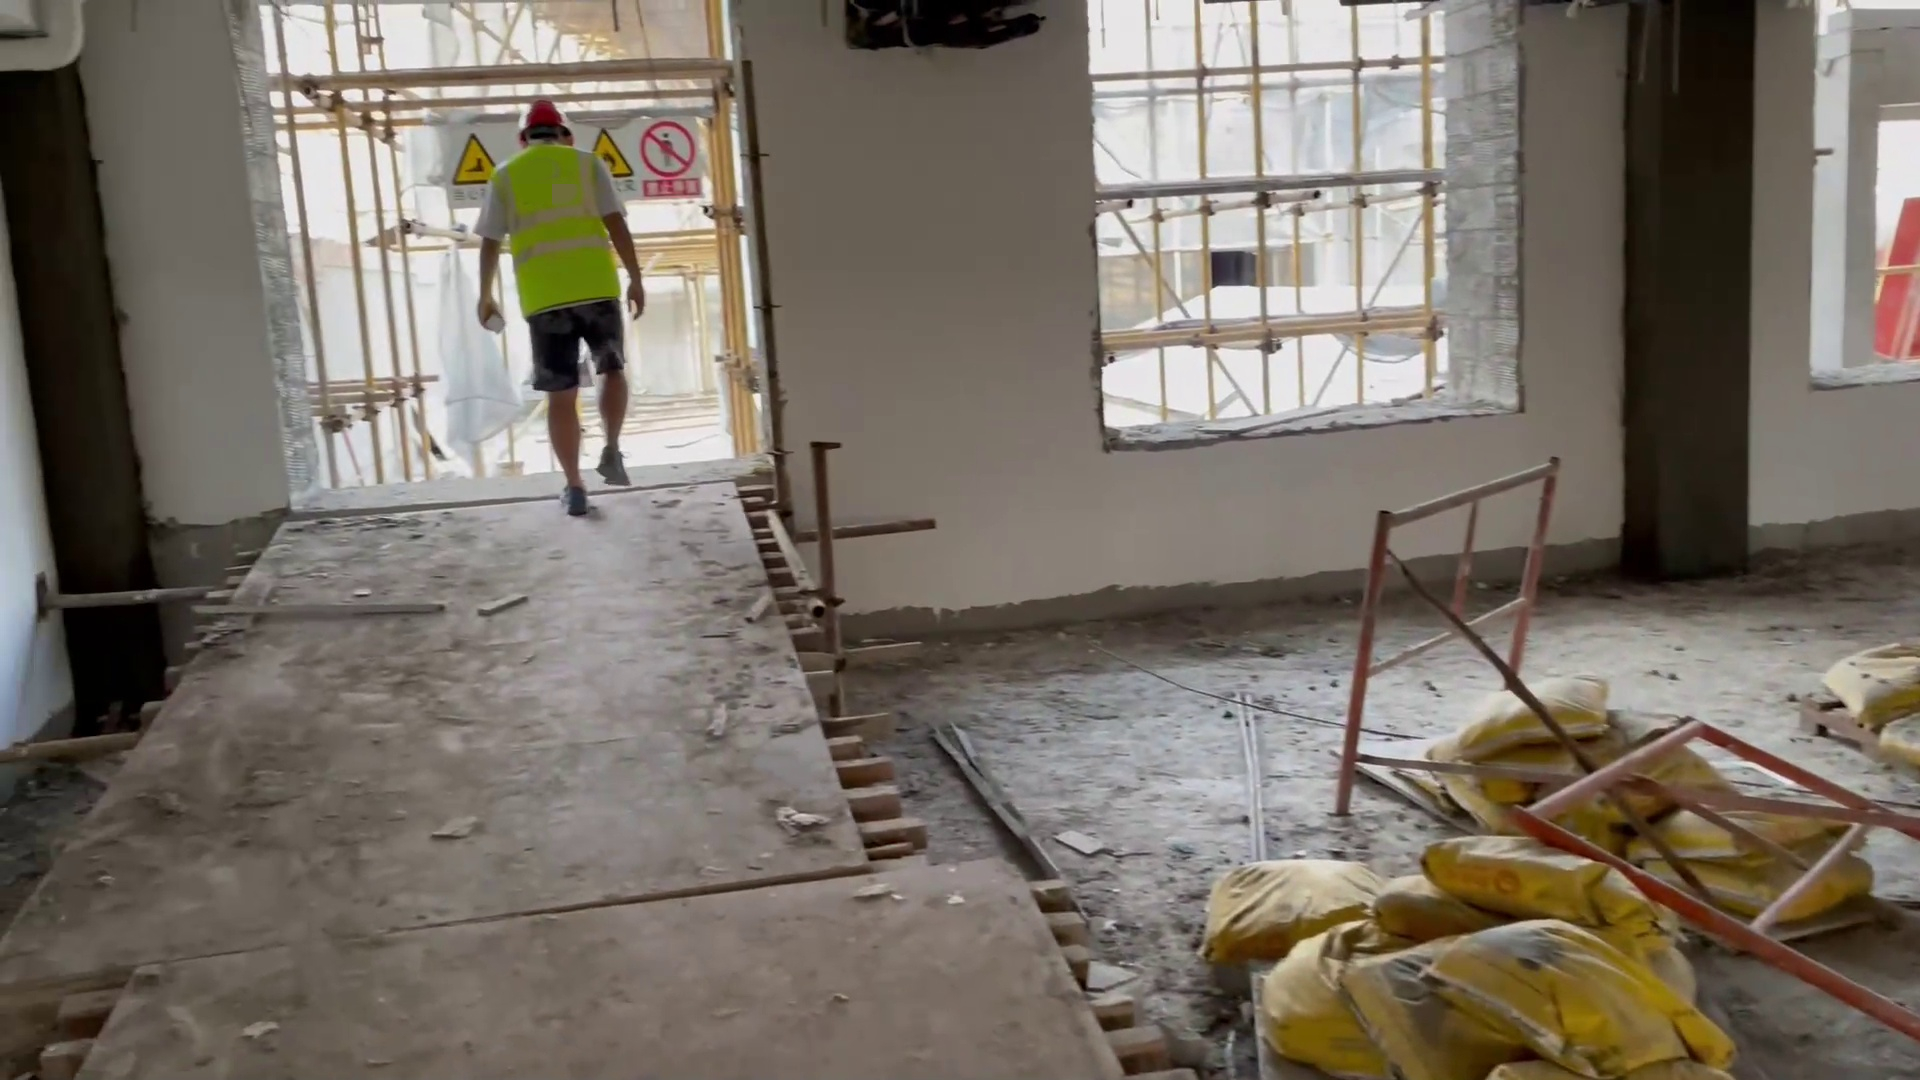helmet: (511, 96, 567, 138)
person: (470, 86, 655, 509)
vest: (497, 143, 619, 310)
